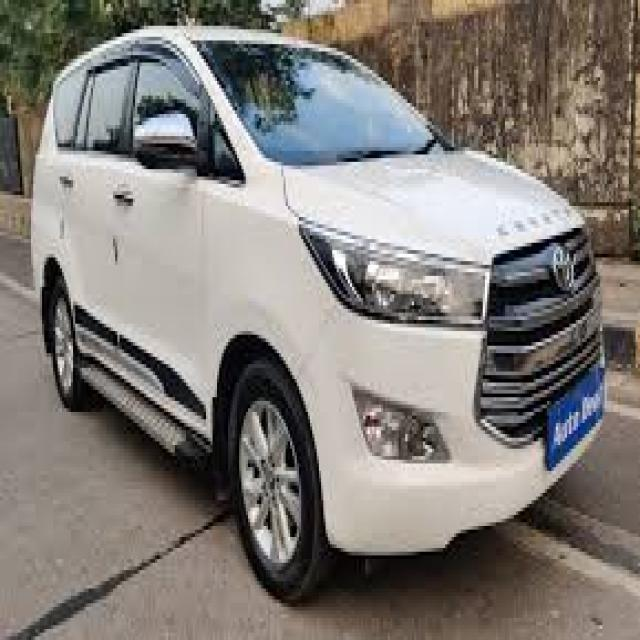light_vehicle: (31, 26, 606, 606)
